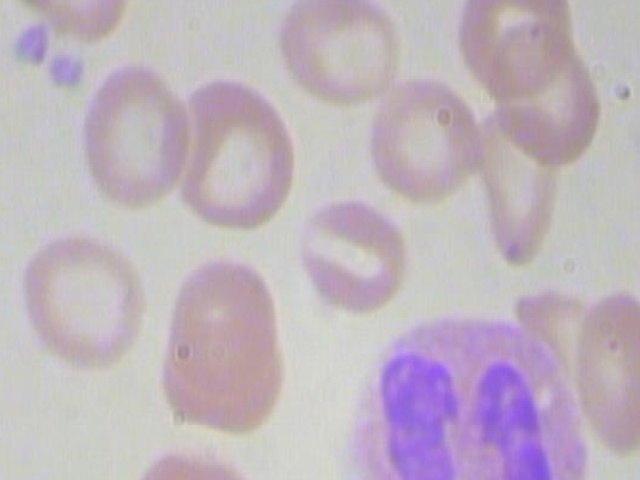Platelets: (4, 15, 52, 74), (42, 42, 87, 96)
RBC: (156, 67, 300, 243), (14, 227, 157, 387), (69, 57, 200, 217), (461, 95, 571, 278), (162, 249, 286, 400), (363, 69, 485, 212), (293, 183, 408, 327), (269, 0, 407, 114), (568, 280, 640, 470), (457, 0, 576, 109), (0, 0, 134, 53), (124, 437, 268, 480)
WBC: (324, 304, 599, 480)
